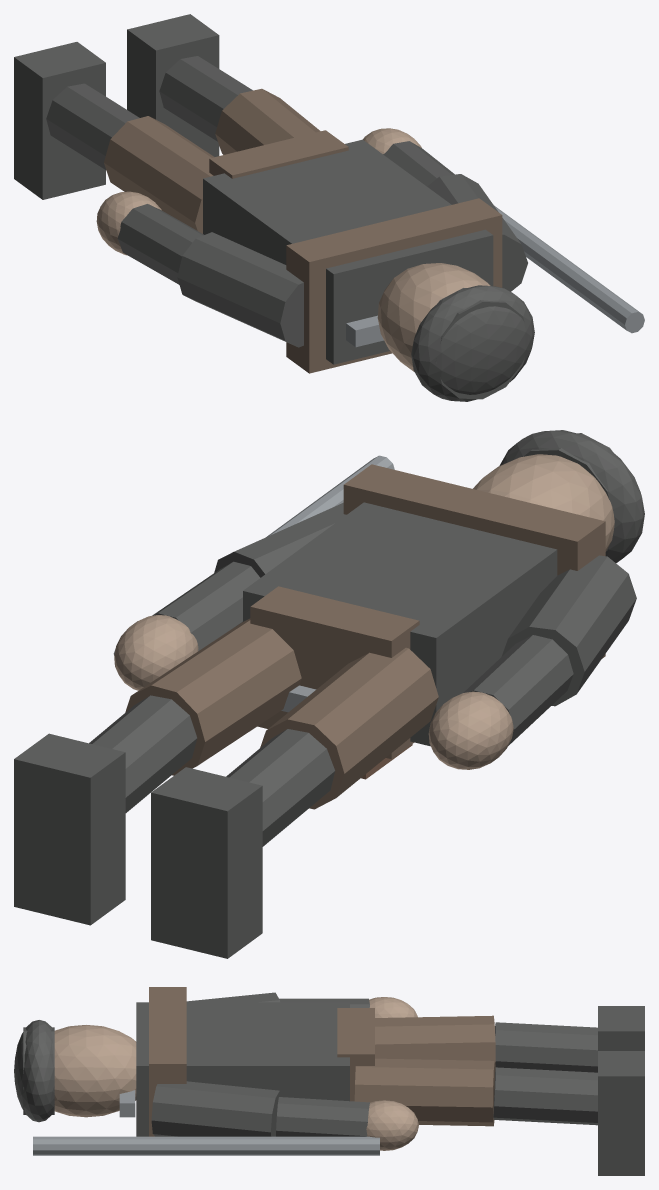
Rendered from SM_CharacterRaider_Preview.glb.
3 views of the same model, one above another, from view 1: azimuth 30°, elevation 25°; view 2: azimuth 150°, elevation 25°; view 3: azimuth 270°, elevation 25° (orthographic). The views are drawn at different scales.
Visible parts, largest first — view 1: SM_CharacterRaider_Preview_017, SM_CharacterRaider_Preview_001, SM_CharacterRaider_Preview_000, SM_CharacterRaider_Preview_011, SM_CharacterRaider_Preview_010, SM_CharacterRaider_Preview_013, SM_CharacterRaider_Preview_005, SM_CharacterRaider_Preview_016, SM_CharacterRaider_Preview_012, SM_CharacterRaider_Preview_006, SM_CharacterRaider_Preview_007, SM_CharacterRaider_Preview_009 (+8 smaller); view 2: SM_CharacterRaider_Preview_017, SM_CharacterRaider_Preview_011, SM_CharacterRaider_Preview_005, SM_CharacterRaider_Preview_013, SM_CharacterRaider_Preview_007, SM_CharacterRaider_Preview_001, SM_CharacterRaider_Preview_014, SM_CharacterRaider_Preview_010, SM_CharacterRaider_Preview_012, SM_CharacterRaider_Preview_006, SM_CharacterRaider_Preview_016, SM_CharacterRaider_Preview_009 (+6 smaller); view 3: SM_CharacterRaider_Preview_017, SM_CharacterRaider_Preview_007, SM_CharacterRaider_Preview_024, SM_CharacterRaider_Preview_016, SM_CharacterRaider_Preview_004, SM_CharacterRaider_Preview_005, SM_CharacterRaider_Preview_006, SM_CharacterRaider_Preview_013, SM_CharacterRaider_Preview_012, SM_CharacterRaider_Preview_001, SM_CharacterRaider_Preview_003, SM_CharacterRaider_Preview_000 (+8 smaller).
Boxes of the visible parts, x1,y1,x2,y2 form: SM_CharacterRaider_Preview_017: [203, 139, 493, 364]; SM_CharacterRaider_Preview_001: [286, 198, 502, 373]; SM_CharacterRaider_Preview_000: [411, 285, 534, 401]; SM_CharacterRaider_Preview_011: [14, 42, 105, 199]; SM_CharacterRaider_Preview_010: [177, 232, 303, 347]; SM_CharacterRaider_Preview_013: [104, 116, 214, 233]; SM_CharacterRaider_Preview_005: [127, 14, 219, 156]; SM_CharacterRaider_Preview_016: [377, 263, 490, 371]; SM_CharacterRaider_Preview_012: [46, 83, 139, 169]; SM_CharacterRaider_Preview_006: [159, 56, 252, 141]; SM_CharacterRaider_Preview_007: [215, 88, 320, 154]; SM_CharacterRaider_Preview_009: [117, 204, 203, 284]; SM_CharacterRaider_Preview_017: [243, 502, 557, 746]; SM_CharacterRaider_Preview_011: [151, 767, 262, 958]; SM_CharacterRaider_Preview_005: [14, 733, 125, 925]; SM_CharacterRaider_Preview_013: [260, 647, 438, 809]; SM_CharacterRaider_Preview_007: [125, 618, 301, 775]; SM_CharacterRaider_Preview_001: [343, 464, 605, 658]; SM_CharacterRaider_Preview_014: [250, 586, 419, 759]; SM_CharacterRaider_Preview_010: [501, 555, 636, 706]; SM_CharacterRaider_Preview_012: [226, 729, 334, 846]; SM_CharacterRaider_Preview_006: [89, 695, 197, 812]; SM_CharacterRaider_Preview_016: [473, 454, 614, 551]; SM_CharacterRaider_Preview_009: [463, 635, 573, 745]; SM_CharacterRaider_Preview_017: [136, 1002, 349, 1136]; SM_CharacterRaider_Preview_007: [354, 1058, 495, 1126]; SM_CharacterRaider_Preview_024: [33, 1136, 379, 1155]; SM_CharacterRaider_Preview_016: [54, 1025, 136, 1117]; SM_CharacterRaider_Preview_004: [151, 1081, 283, 1136]; SM_CharacterRaider_Preview_005: [598, 1051, 644, 1175]; SM_CharacterRaider_Preview_006: [493, 1067, 597, 1125]; SM_CharacterRaider_Preview_013: [375, 1015, 495, 1064]; SM_CharacterRaider_Preview_012: [495, 1022, 597, 1072]; SM_CharacterRaider_Preview_001: [149, 987, 186, 1136]; SM_CharacterRaider_Preview_003: [276, 1097, 369, 1136]; SM_CharacterRaider_Preview_000: [14, 1020, 54, 1122].
Size of the model in its own units: 0.9802 by 0.405 by 2.01.
